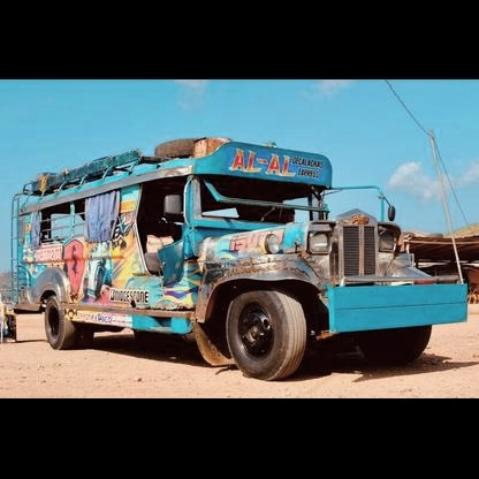jeepney: (7, 138, 475, 382)
